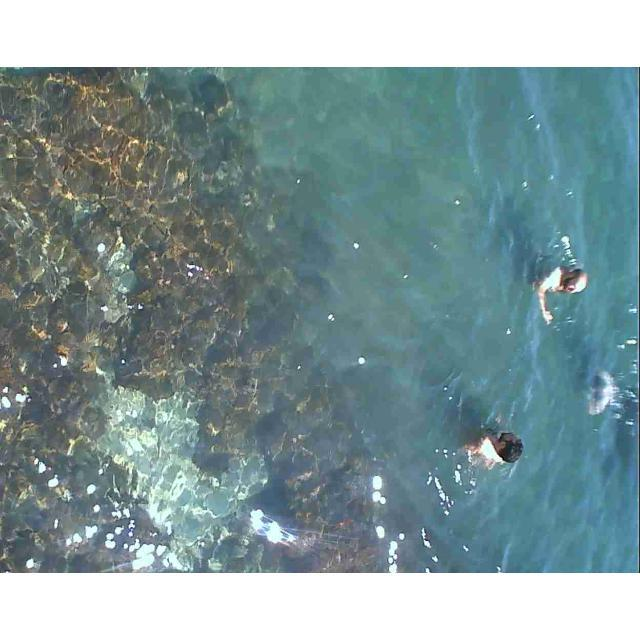human: (538, 246, 593, 332), (471, 410, 536, 481)
